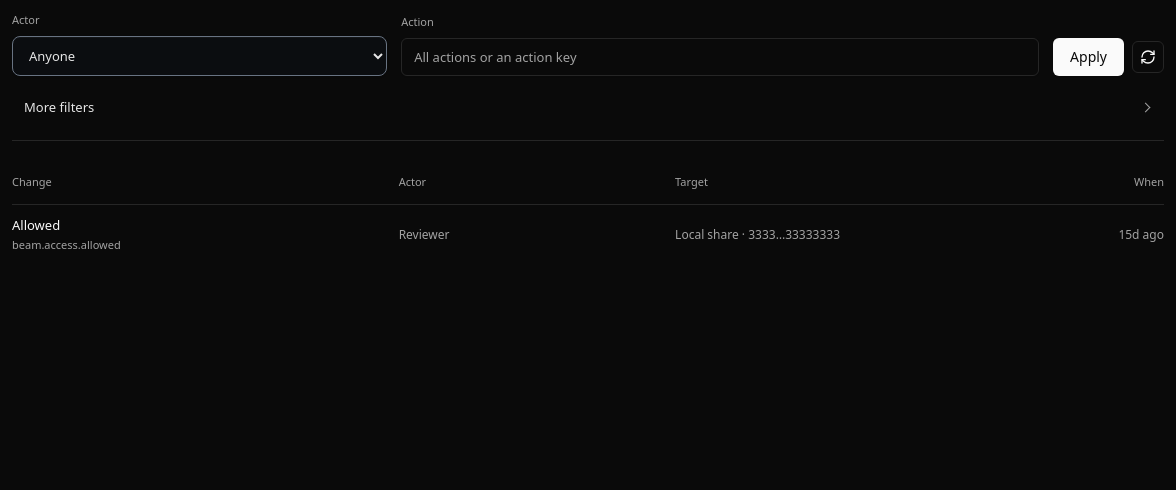
it: Beam Audit Log integration › applies a typed Beam target filter and shows only redacted metadata in details
Expected: the table named "Audit events" is shown, [12, 158, 1164, 264]
Click the heading "More filters" at (59, 107), box [24, 98, 94, 116]
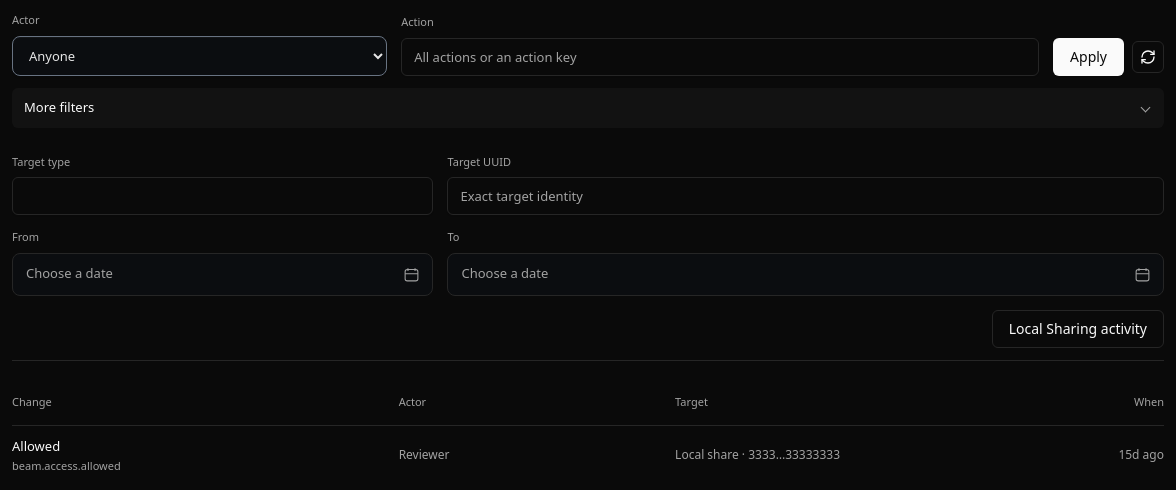
Click the button "Local Sharing activity" at (1078, 329), box [992, 310, 1164, 348]
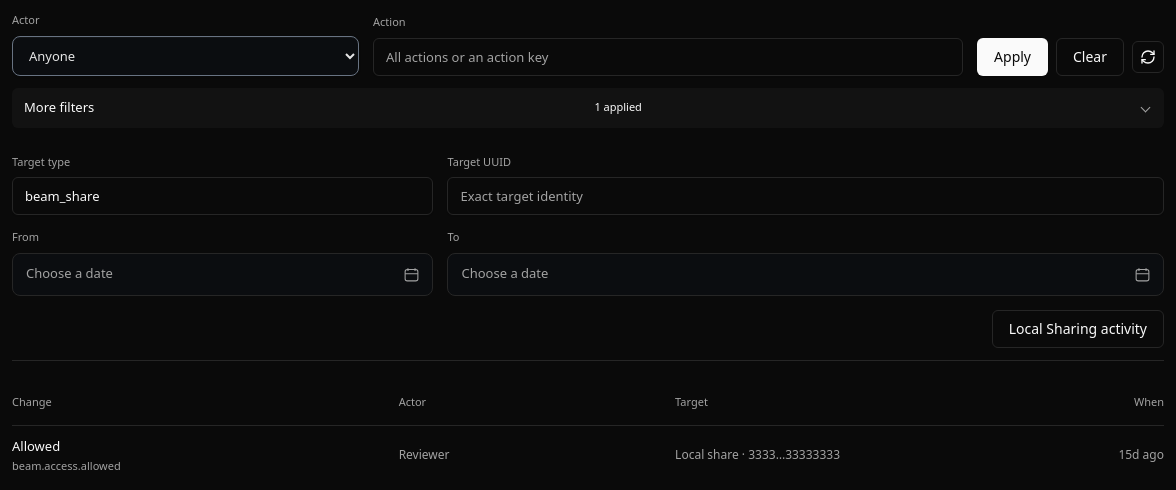
Click the button with aria-label "Inspect beam.access.allowed audit event" at (66, 455), box [12, 437, 121, 473]
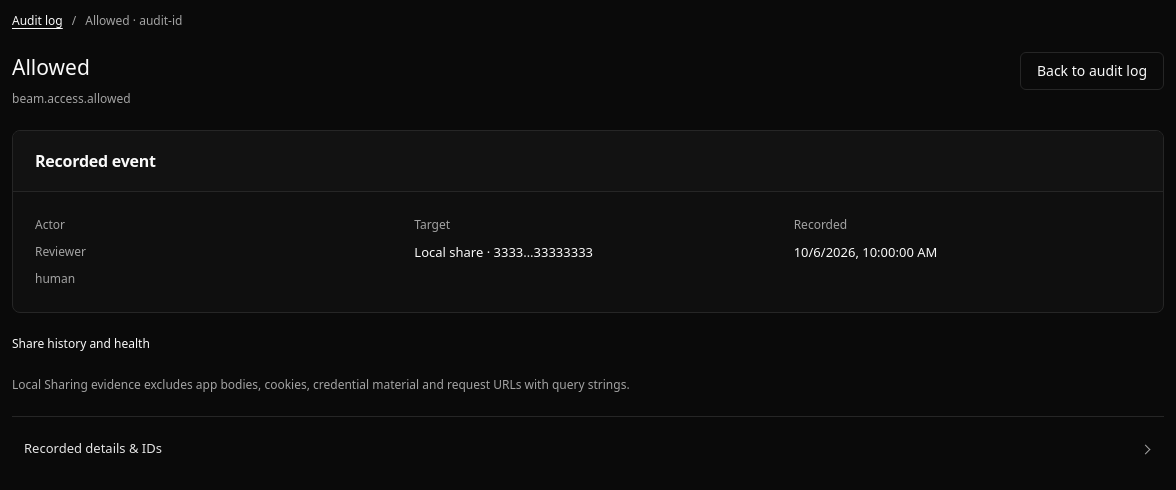
Now the link "Share history and health" is shown, box [12, 335, 150, 353]
